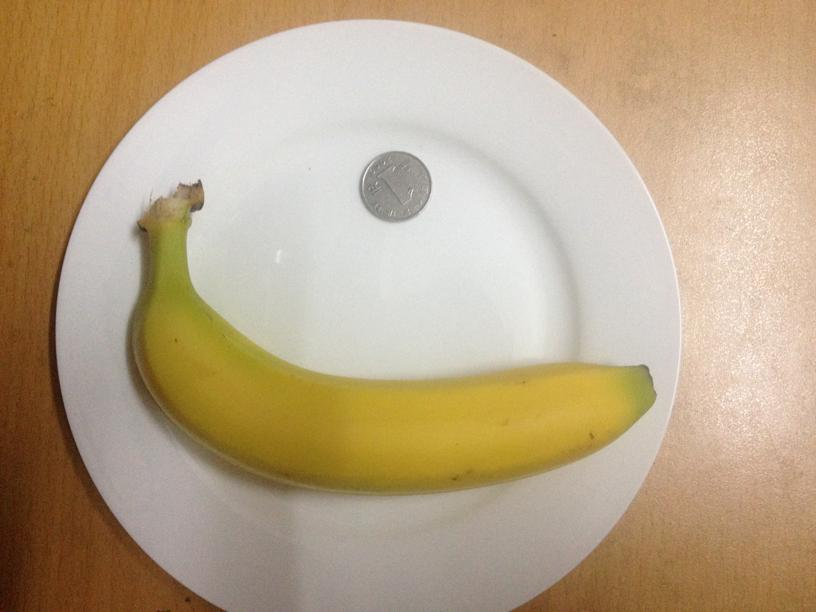banana: (127, 235, 653, 494)
coin: (360, 151, 430, 223)
